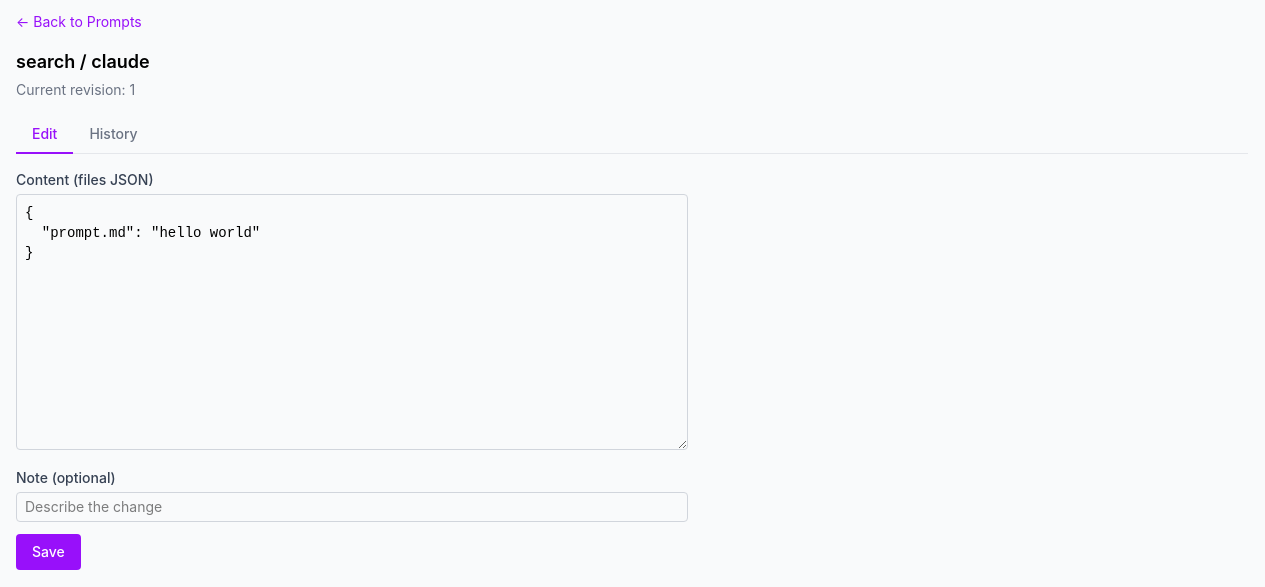
Scenario: PromptDetail - History tab › renders selected revision content read-only when a row is clicked
Click the button "History": click(114, 135) [73, 116, 154, 154]
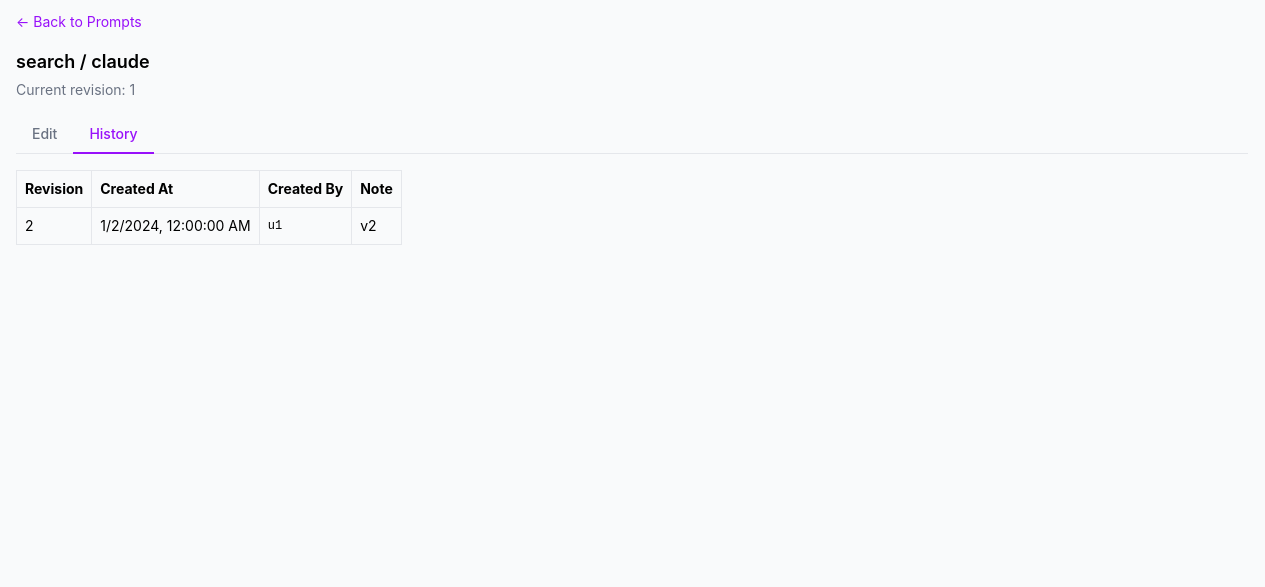
Now the text "v2" is shown
Click the text "v2": click(376, 226) [352, 208, 401, 244]
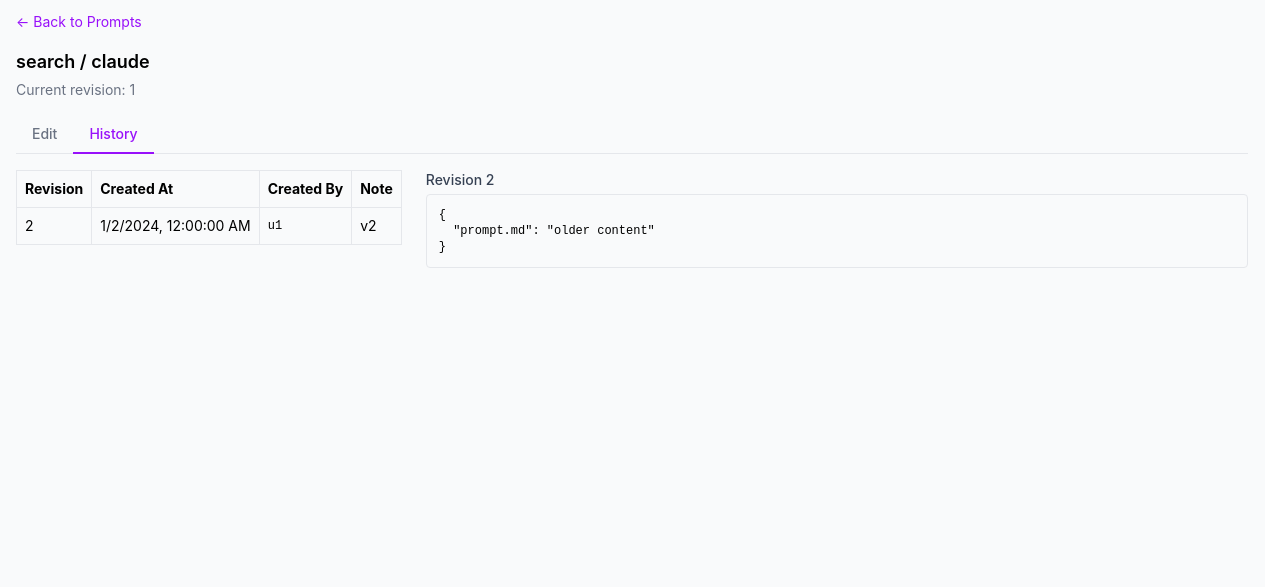
Expected: the button "Save" is not shown
Now the text "{ \"prompt.md\": \"older content\" }" is shown, box [426, 194, 1248, 268]
